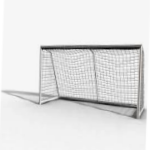goals: (36, 43, 146, 120)
